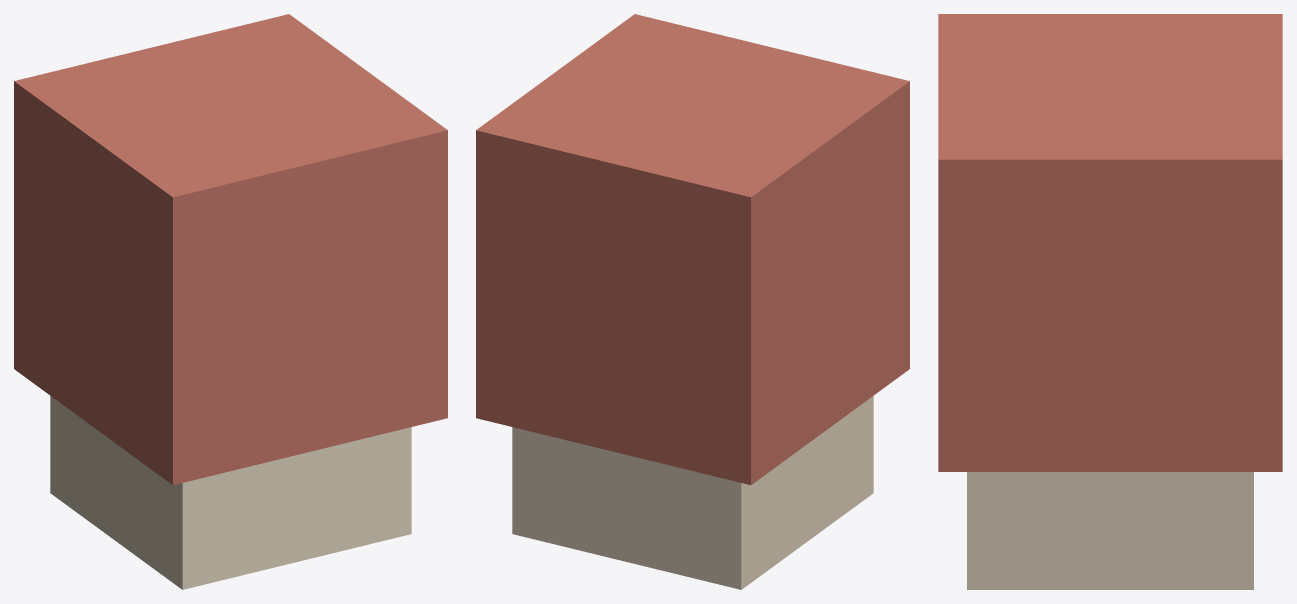
File: house.glb
The picture shows the model from 3 angles, left to right: view 1: azimuth 30°, elevation 25°; view 2: azimuth 150°, elevation 25°; view 3: azimuth 270°, elevation 25°; orthographic projection. The views are drawn at different scales.
Parts seen in each view (by area): view 1: house; view 2: house; view 3: house.
Part boxes in pixels (left/top/right/bottom): house: left=14, top=14, right=447, bottom=589; house: left=476, top=14, right=909, bottom=589; house: left=938, top=14, right=1282, bottom=589.
Bounding box in the file's own units: 2.4 × 3.4 × 2.4.
